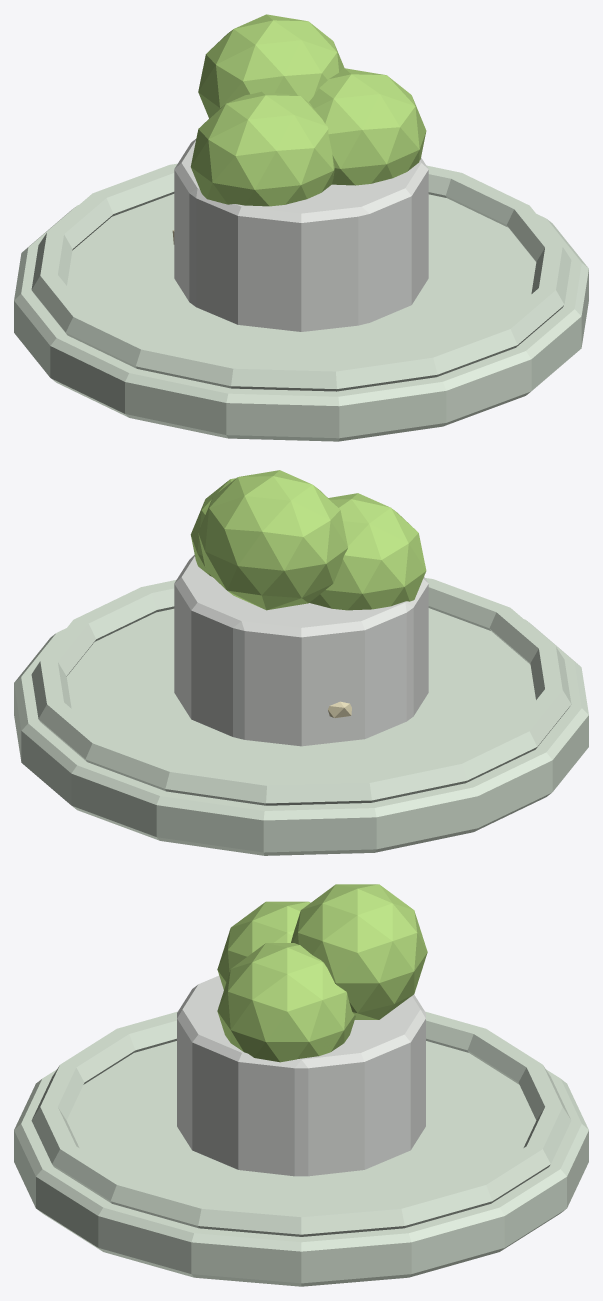
File: pistachio_ice_cream.glb
3 views of the same model, one above another, from view 1: azimuth 30°, elevation 25°; view 2: azimuth 150°, elevation 25°; view 3: azimuth 270°, elevation 25° (orthographic).
Visible parts, largest first — view 1: FTF_Dish_PistachioIceCream_StaticMesh; view 2: FTF_Dish_PistachioIceCream_StaticMesh; view 3: FTF_Dish_PistachioIceCream_StaticMesh.
Boxes of the visible parts, bbox=[...] form: FTF_Dish_PistachioIceCream_StaticMesh: bbox=[14, 14, 588, 441]; FTF_Dish_PistachioIceCream_StaticMesh: bbox=[14, 470, 588, 855]; FTF_Dish_PistachioIceCream_StaticMesh: bbox=[14, 884, 588, 1286].
Bounding box in the file's own units: 0.82 × 0.44 × 0.82.
